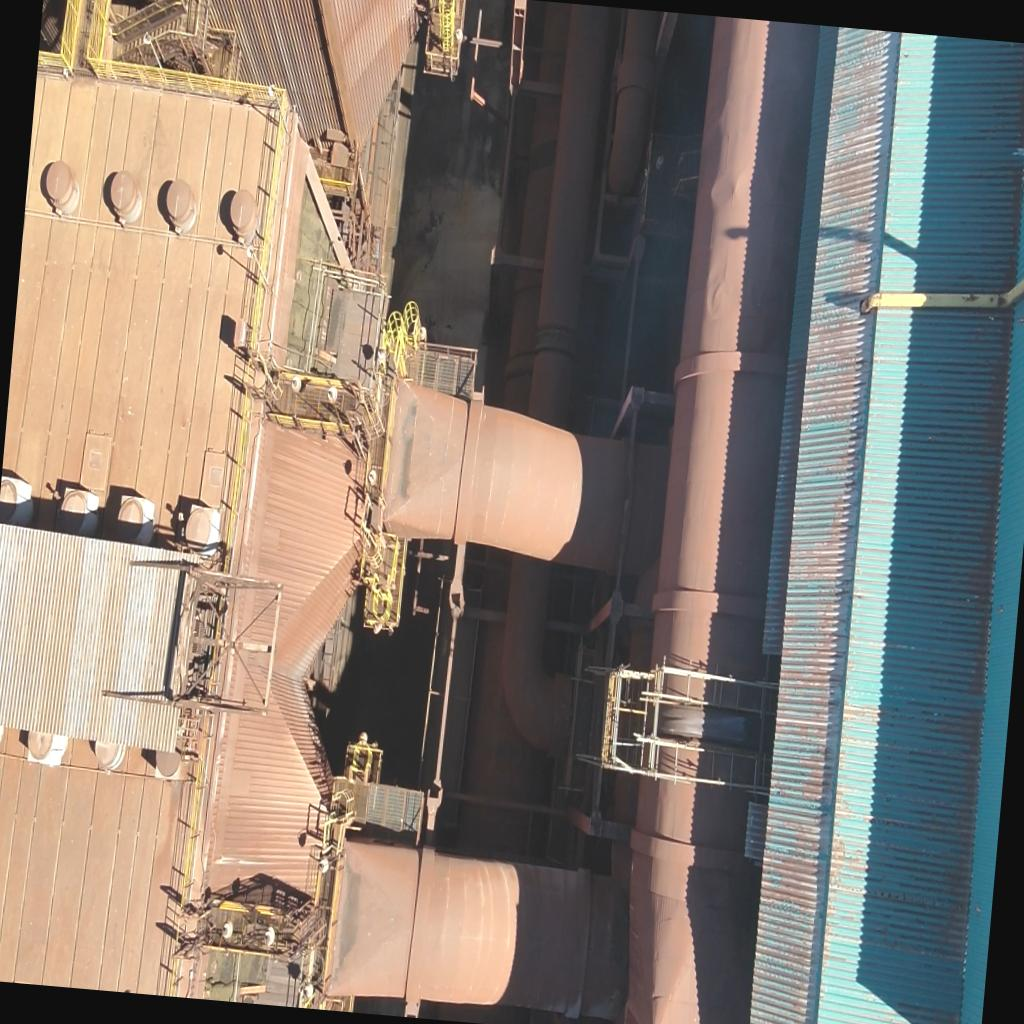Failures: (274, 197, 384, 388)
